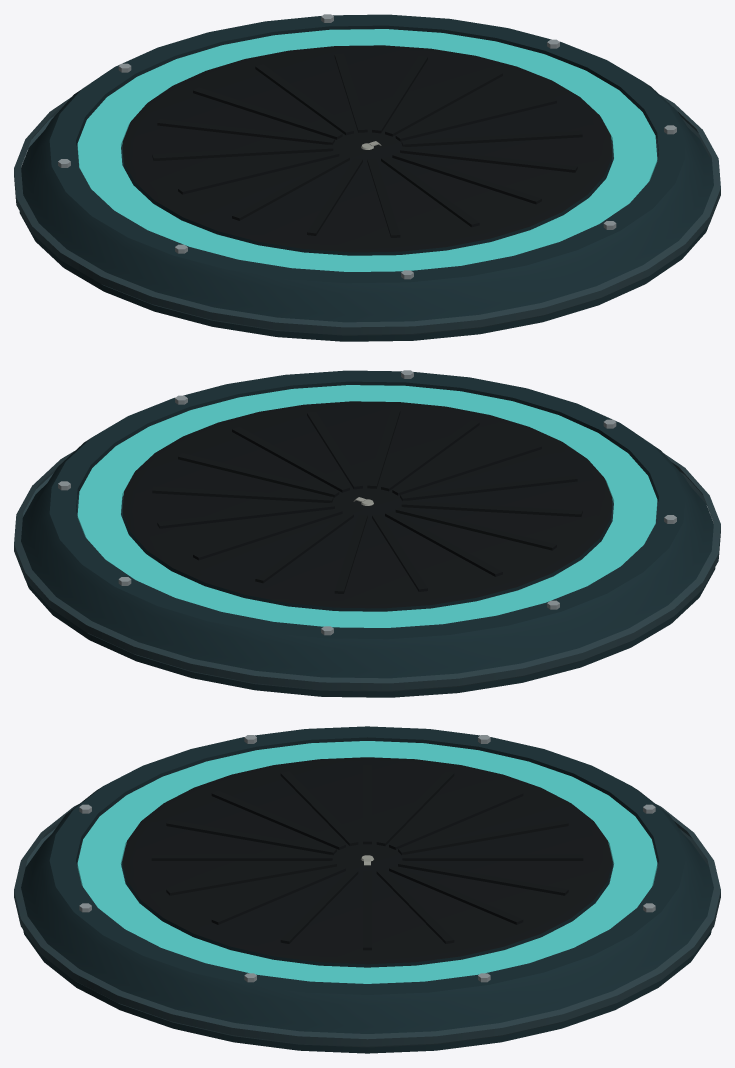
Rendered from items.glb.
The picture shows the model from 3 angles, top to bottom: view 1: azimuth 30°, elevation 25°; view 2: azimuth 150°, elevation 25°; view 3: azimuth 270°, elevation 25°; orthographic projection.
Visible parts, largest first — view 1: pickup_stand; view 2: pickup_stand; view 3: pickup_stand.
Boxes of the visible parts, x1,y1,x2,y2 form: pickup_stand: [14, 14, 720, 341]; pickup_stand: [14, 370, 720, 697]; pickup_stand: [14, 726, 720, 1053].
Size of the model in its own units: 1.21 by 0.3274 by 1.21.
